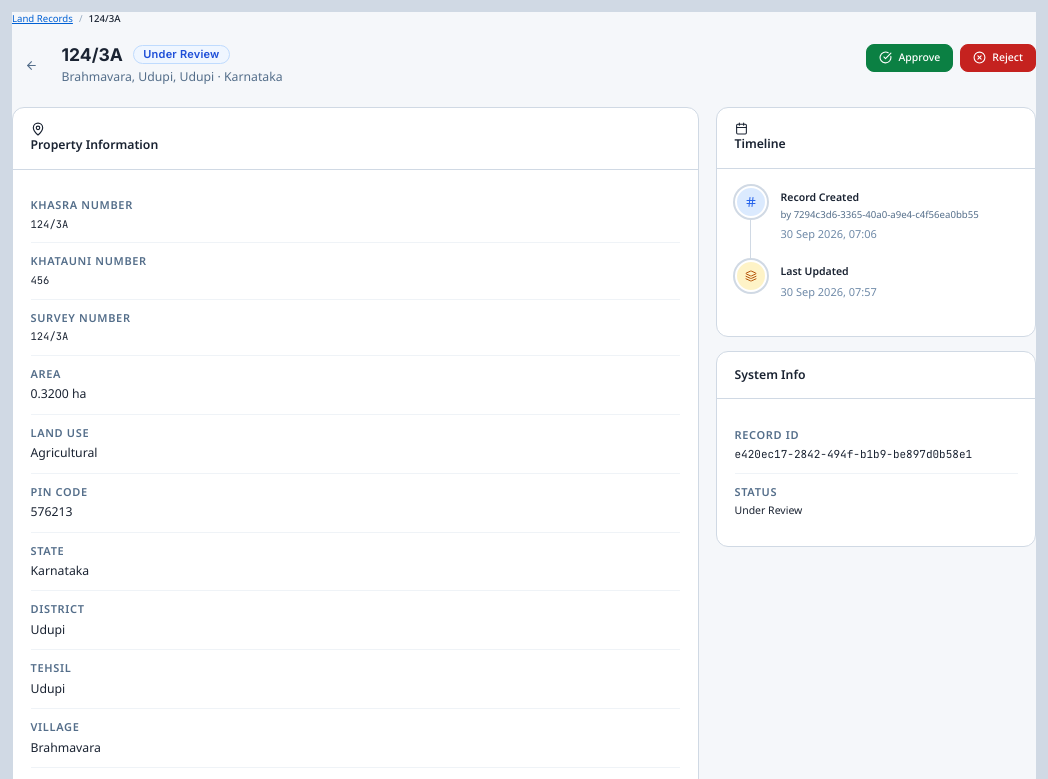
Scenario: LandRecordDetailPage › persists an approval and shows the status the server returns
The image size is (1048, 779).
Click the button "Approve" at (910, 58), box [866,44,953,72]
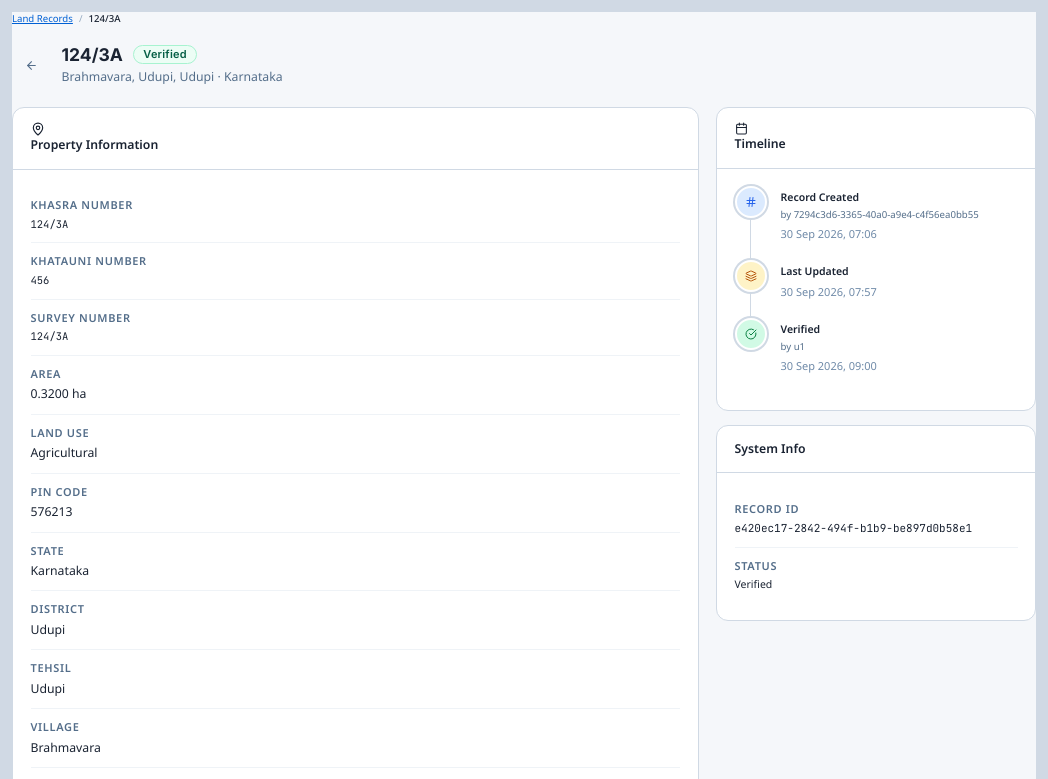
Check: the text "by u1" is shown, box [780,340,805,353]
